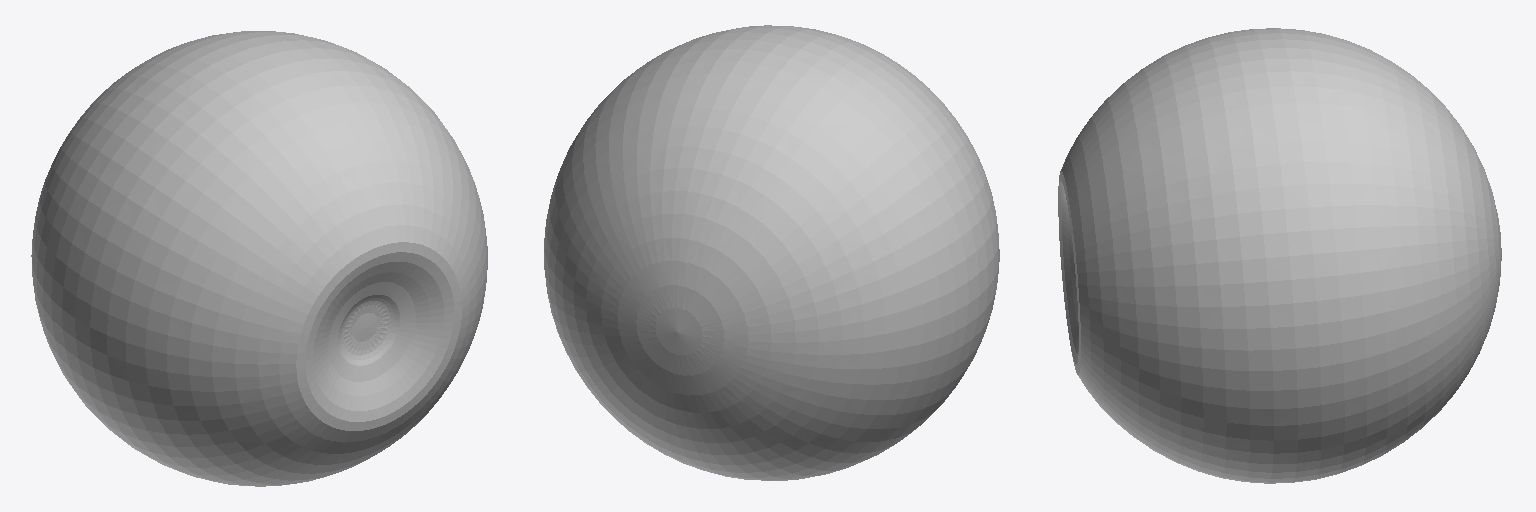
Rendered from Victor_leftEyeInner.obj.
3 views of the same model, side by side, from view 1: azimuth 30°, elevation 25°; view 2: azimuth 150°, elevation 25°; view 3: azimuth 270°, elevation 25° (orthographic).
Parts seen in each view (by area): view 1: Victor_leftEyeInner Victor_Eyes def:geo FTI_Victor; view 2: Victor_leftEyeInner Victor_Eyes def:geo FTI_Victor; view 3: Victor_leftEyeInner Victor_Eyes def:geo FTI_Victor.
Part boxes in pixels (left/top/right/bottom): Victor_leftEyeInner Victor_Eyes def:geo FTI_Victor: left=31, top=31, right=487, bottom=486; Victor_leftEyeInner Victor_Eyes def:geo FTI_Victor: left=544, top=25, right=999, bottom=480; Victor_leftEyeInner Victor_Eyes def:geo FTI_Victor: left=1058, top=28, right=1501, bottom=483.
Size of the model in its own units: 0.3906 by 0.3901 by 0.38.